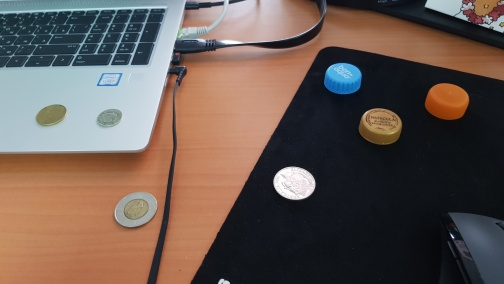coin: (113, 191, 158, 229), (273, 166, 316, 201), (35, 104, 68, 126), (96, 108, 123, 128)
